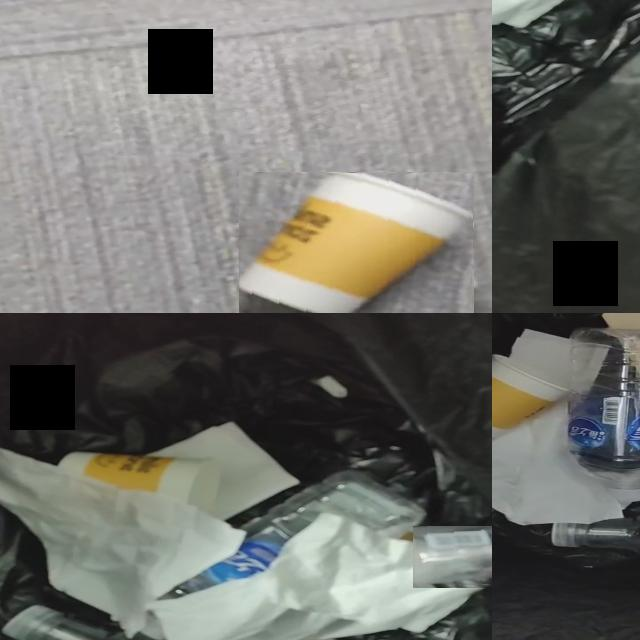bottle: (181, 472, 424, 595), (568, 329, 640, 505), (413, 526, 492, 587), (550, 517, 640, 556)
dixie_cup: (240, 173, 474, 313), (58, 452, 220, 512), (492, 356, 571, 437)
paper: (0, 449, 492, 640), (492, 404, 624, 525), (149, 422, 297, 520), (506, 330, 576, 392)
